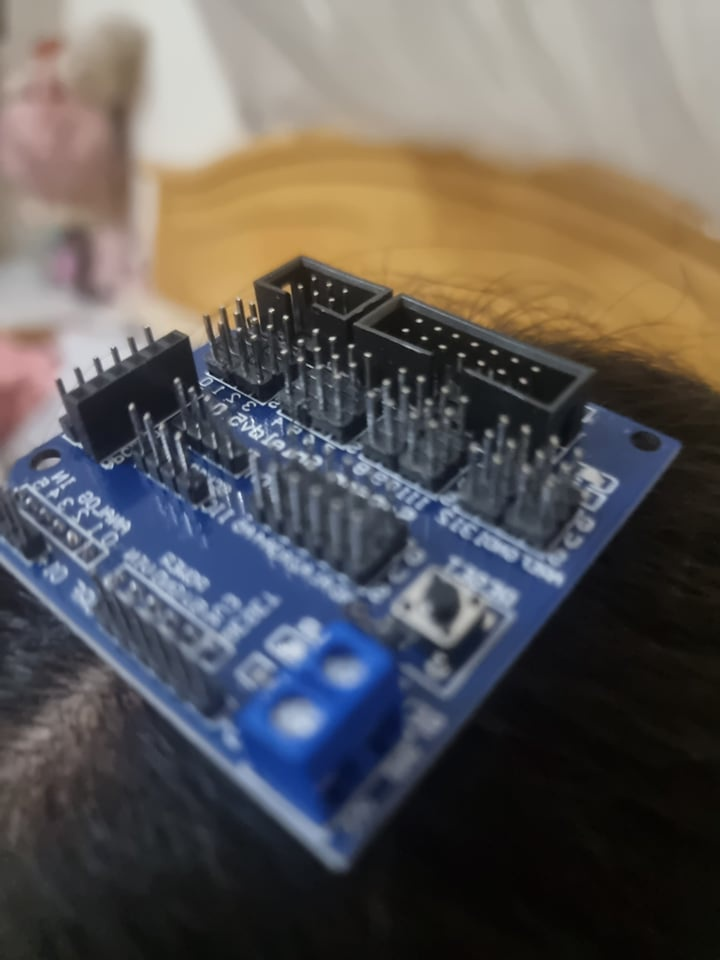5V EXPANSION: (0, 248, 678, 873)
